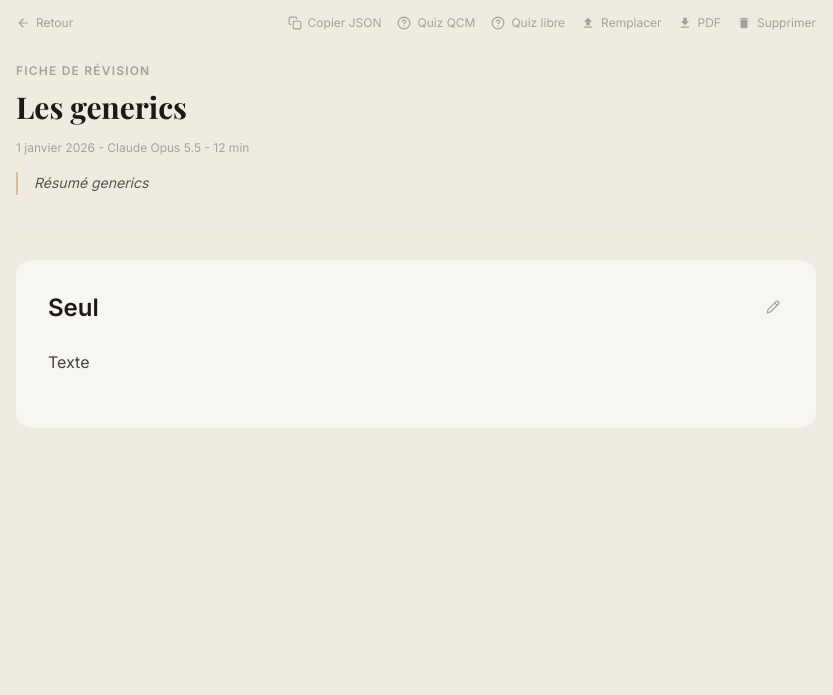
it: FlashCardDetailPage section editing › refuses to save an empty card
The image size is (833, 695).
Click the button named "Modifier la section « Seul »" at (773, 307), box [762,296,784,318]
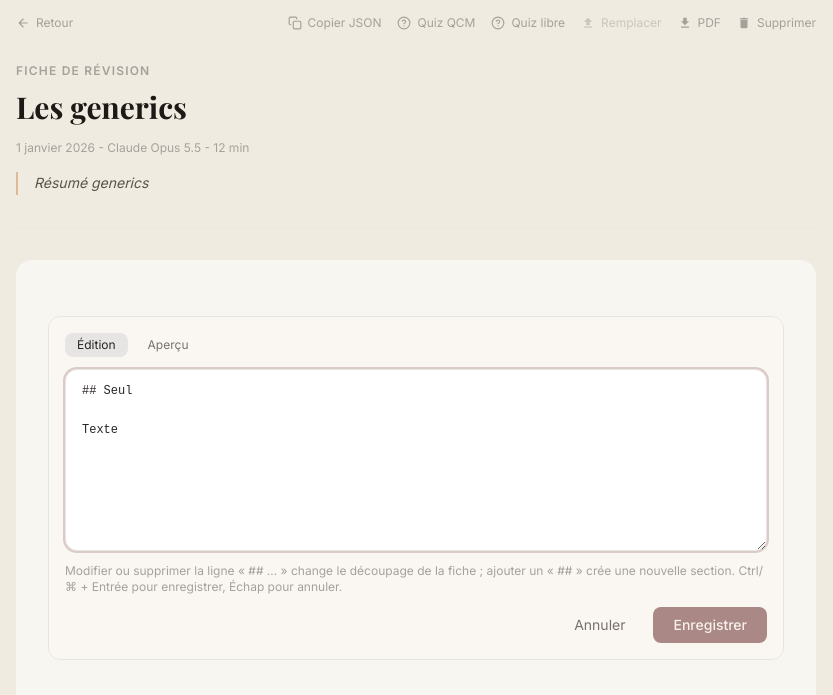
Clear the text box named "Markdown de la section" at (416, 460), box [65,369,767,551]
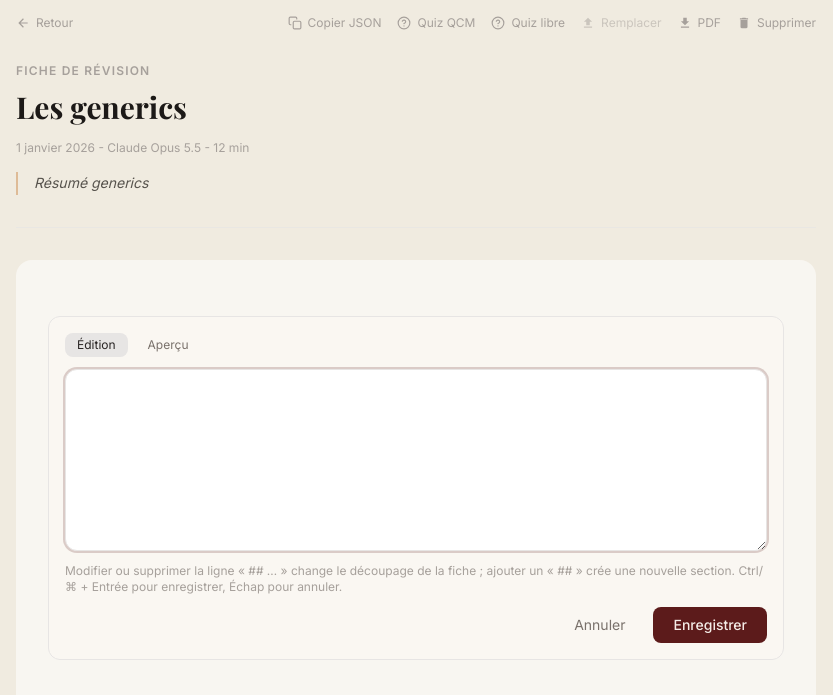
Click the button "Enregistrer" at (710, 625), box [654,607,767,643]
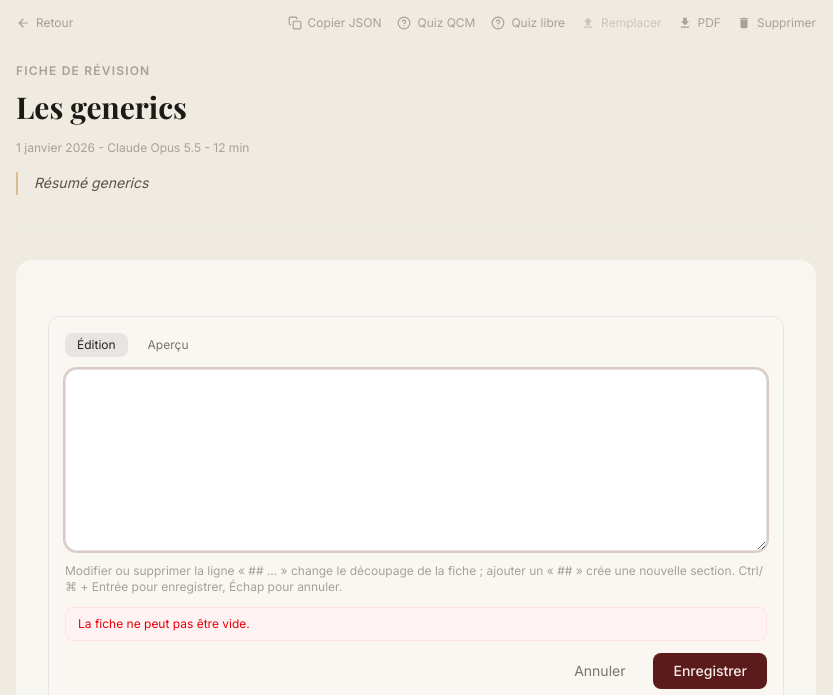
Now the message reads "La fiche ne peut pas être vide.", box [78,616,250,631]
